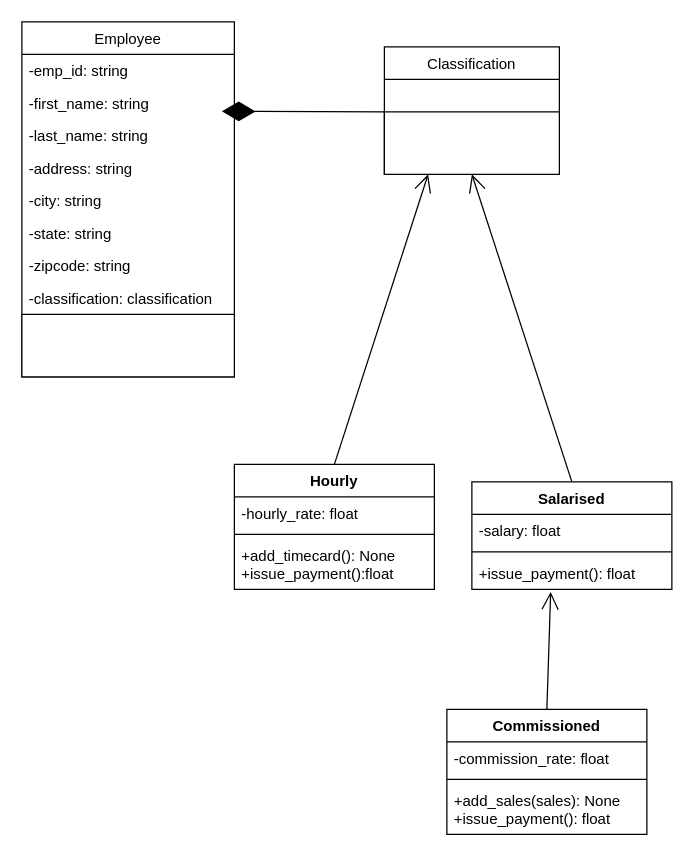
This 694x860 diagram has some shape labels left out. Each missing label, with the centre of its shape:
+PaymentMethod():: the point at 127,345
Abstract +issue_payment(): float: the point at 471,142
